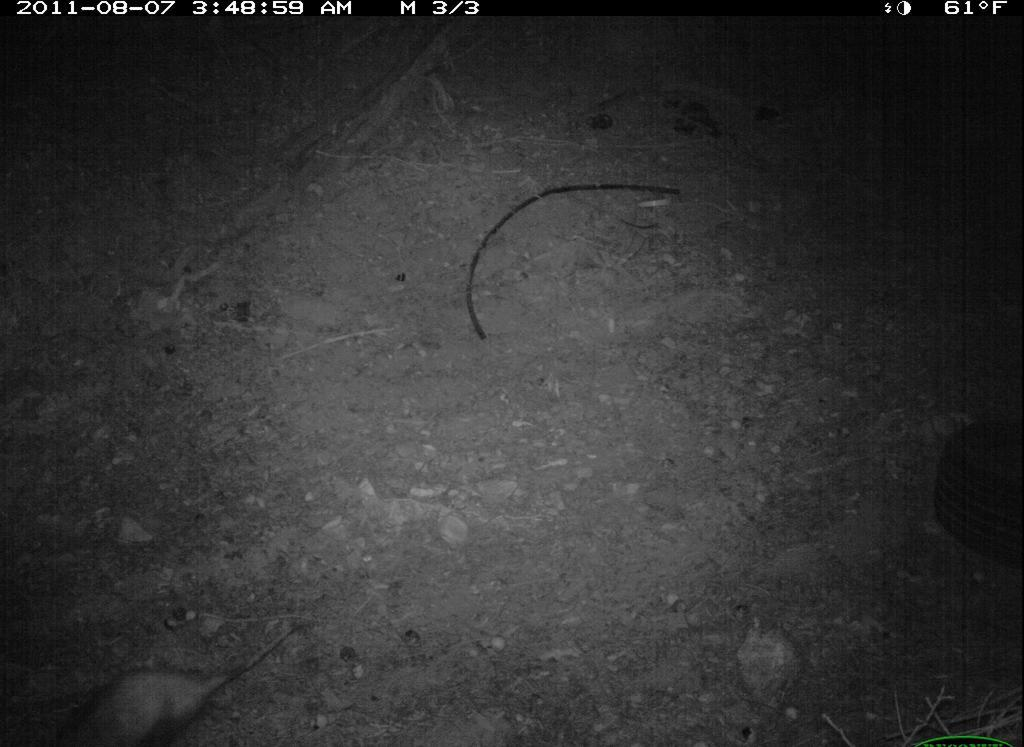opossum: (31, 617, 308, 747)
